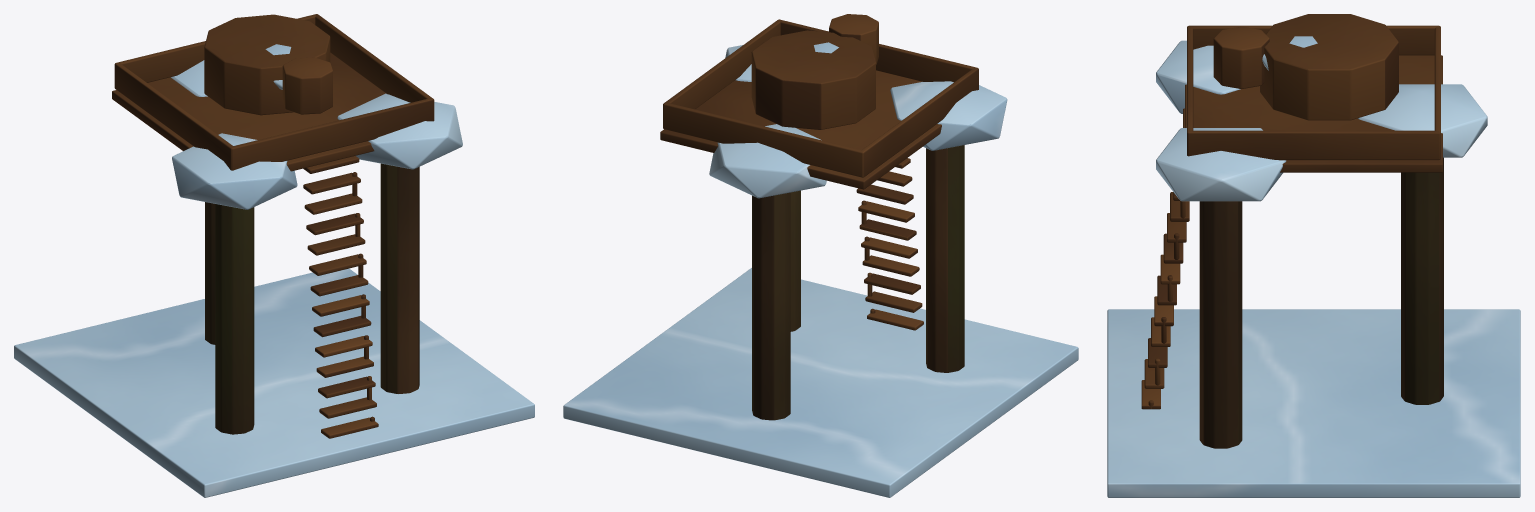
The model's file is building_outcast_treetop_watch.fbx.
3 views of the same model, side by side, from view 1: azimuth 30°, elevation 25°; view 2: azimuth 150°, elevation 25°; view 3: azimuth 270°, elevation 25° (orthographic). The views are drawn at different scales.
Visible parts, largest first — view 1: building_outcast_treetop_watch; view 2: building_outcast_treetop_watch; view 3: building_outcast_treetop_watch.
Part boxes in pixels (box(x1,y1,x2,y2)): building_outcast_treetop_watch: box(14, 14, 534, 497); building_outcast_treetop_watch: box(563, 14, 1078, 497); building_outcast_treetop_watch: box(1107, 14, 1520, 497).
Bounding box in the file's own units: 8 × 8.05 × 8.
